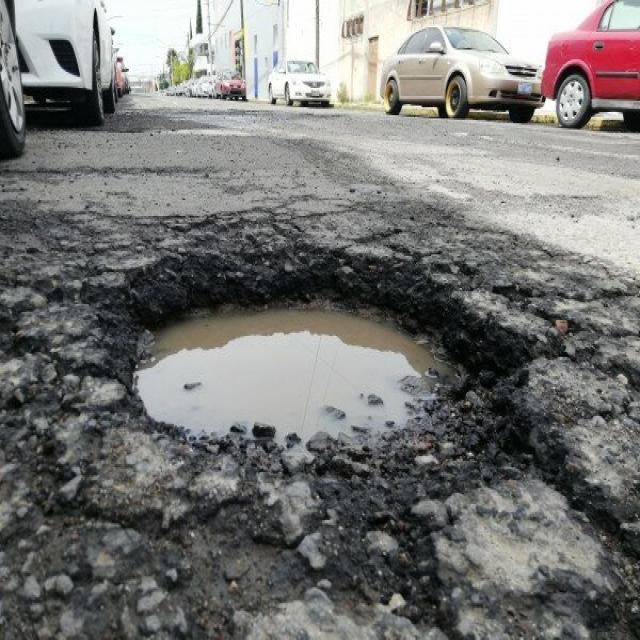Pothole: (68, 203, 550, 538)
